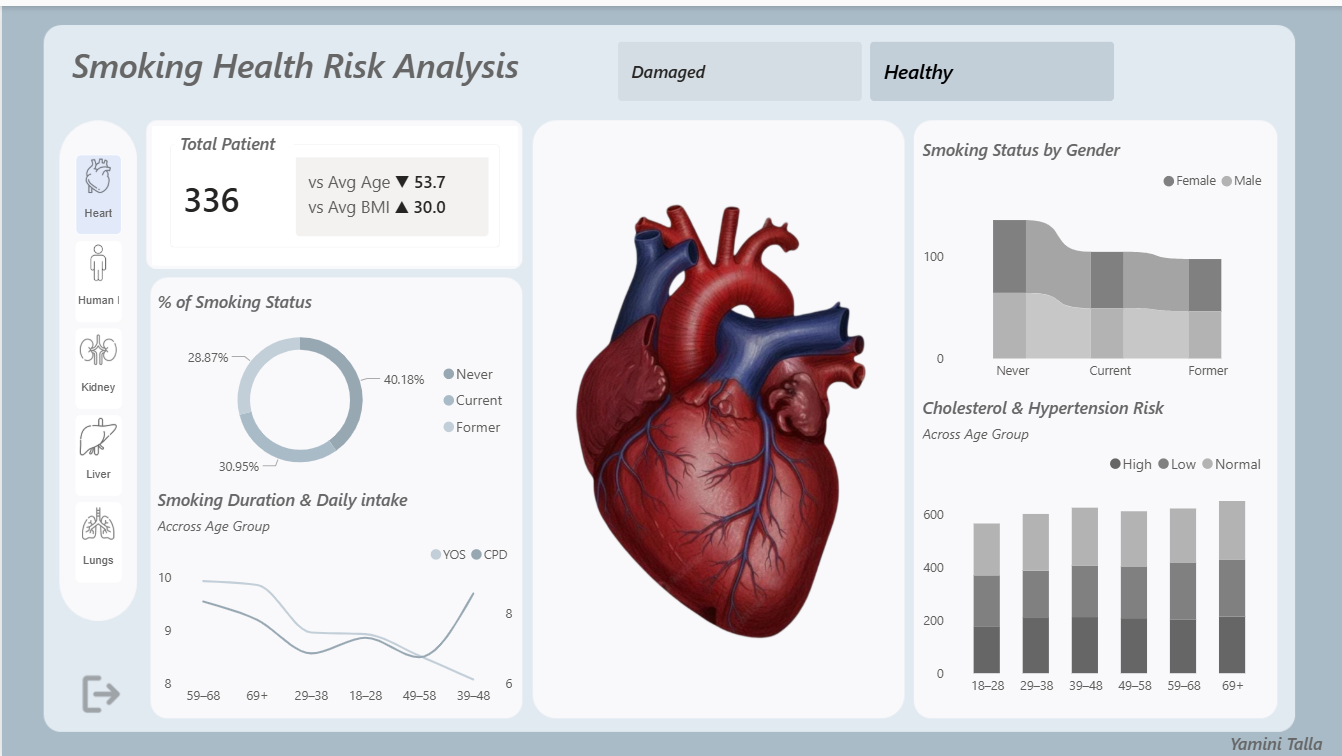

Layout of this report page (visuals, bound fields, positions):
{"tool":"powerbi","page":{"name":"Page 1","canvas":[1280,720],"ordinal":0},"visuals":[{"type":"cardVisual","fields":{"Data":["CountNonNull(health_dataset.Patient_ID)"]},"box":[144,114.8,349.2,133.3],"z":0},{"type":"textbox","box":[164.4,114.8,113.8,37],"z":1000},{"type":"advancedSlicerVisual","fields":{"Values":["condition.Organ_Condition"]},"box":[582.6,29.2,485.3,67.1],"z":2000},{"type":"ChicletSlicer1448559807354","fields":{"Category":["Organs.Organ"],"Image":["Organs.Icon_URL"]},"box":[62.2,133.3,61.3,432.8],"z":3000},{"type":"image","box":[510.6,125.5,349.2,541.8],"z":4000},{"type":"donutChart","title":"% of Smoking Status","fields":{"Category":["health_dataset.Smoking_Status"],"Y":["CountNonNull(health_dataset.Smoking_Status)"]},"box":[144,271.4,349.2,188.7],"z":5000},{"type":"lineChart","title":"Smoking Duration & Daily intake","fields":{"Category":["health_dataset.Age Group"],"Y":["Avg(health_dataset.Years_of_Smoking)"],"Y2":["Avg(health_dataset.Cigarettes_Per_Day)"]},"box":[144,460.1,349.2,216.9],"z":6000},{"type":"ribbonChart","title":"Smoking Status by Gender","fields":{"Category":["health_dataset.Smoking_Status"],"Y":["CountNonNull(health_dataset.Patient_ID)"],"Series":["health_dataset.Gender"]},"box":[874.4,125.5,338.5,240.2],"z":7000},{"type":"columnChart","title":"Cholesterol & Hypertension Risk","fields":{"Category":["health_dataset.Age Group"],"Y":["Avg(health_dataset.Cholesterol_Level)"],"Series":["health_dataset.BP_Risk"]},"box":[874.4,372.5,338.5,294.7],"z":8000},{"type":"textbox","box":[62.2,29.2,507.7,67.1],"z":9000},{"type":"textbox","box":[1167.2,687.7,112.8,32.1],"z":10000}]}

Visuals, with their boxes in screenshot pixels (x1, y1, x2, y2), scaled from the page's 1280x720 canvas onto the 1342x756 screenshot:
cardVisual - CountNonNull(health_dataset.Patient_ID): {"x1": 151, "y1": 121, "x2": 517, "y2": 261}
textbox: {"x1": 172, "y1": 121, "x2": 292, "y2": 159}
advancedSlicerVisual - condition.Organ_Condition: {"x1": 611, "y1": 31, "x2": 1120, "y2": 101}
ChicletSlicer1448559807354 - Organs.Organ x Organs.Icon_URL: {"x1": 65, "y1": 140, "x2": 129, "y2": 594}
image: {"x1": 535, "y1": 132, "x2": 901, "y2": 701}
"% of Smoking Status" donutChart: {"x1": 151, "y1": 285, "x2": 517, "y2": 483}
"Smoking Duration & Daily intake" lineChart: {"x1": 151, "y1": 483, "x2": 517, "y2": 711}
"Smoking Status by Gender" ribbonChart: {"x1": 917, "y1": 132, "x2": 1272, "y2": 384}
"Cholesterol & Hypertension Risk" columnChart: {"x1": 917, "y1": 391, "x2": 1272, "y2": 701}
textbox: {"x1": 65, "y1": 31, "x2": 598, "y2": 101}
textbox: {"x1": 1224, "y1": 722, "x2": 1341, "y2": 755}
